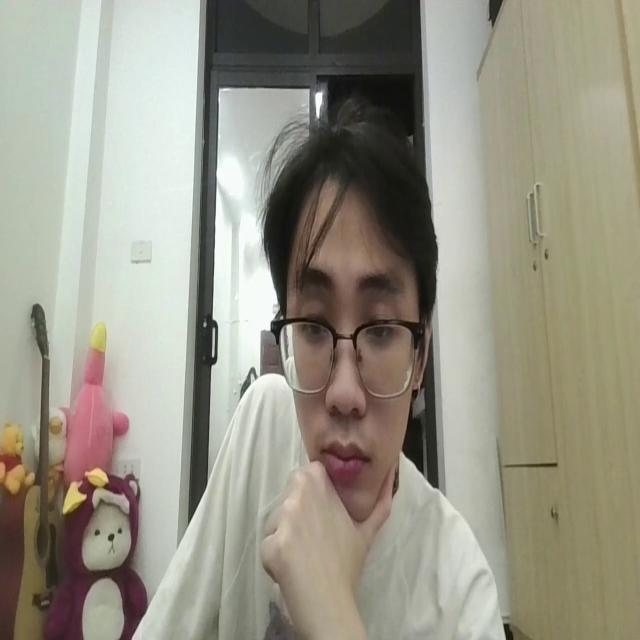student: (117, 93, 509, 640)
